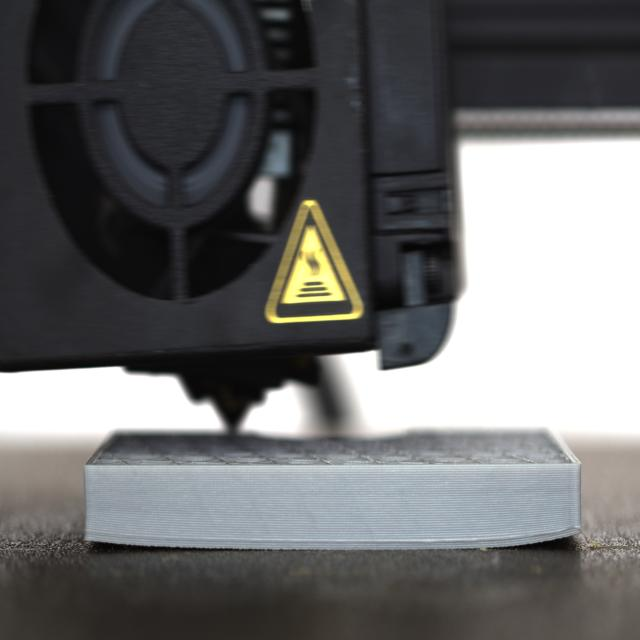Warping: (526, 518, 583, 552), (80, 528, 141, 553)
